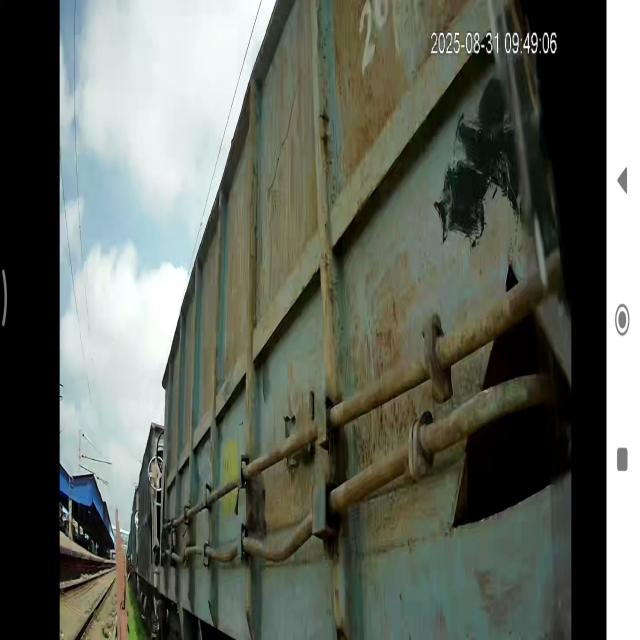coach: (163, 0, 601, 640)
